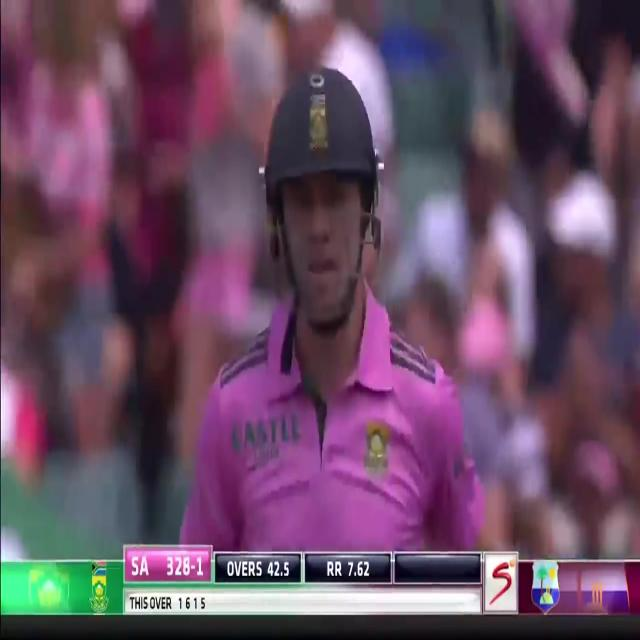Ball: (177, 63, 499, 554)
